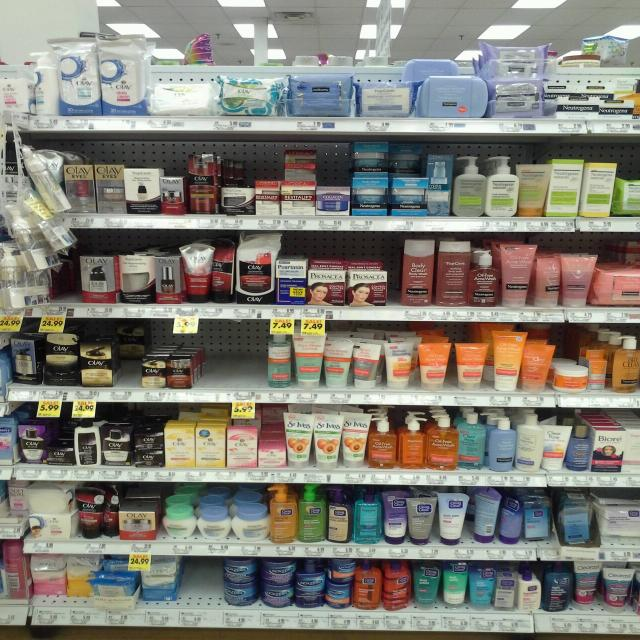void: (201, 321, 262, 387), (184, 557, 218, 611)
